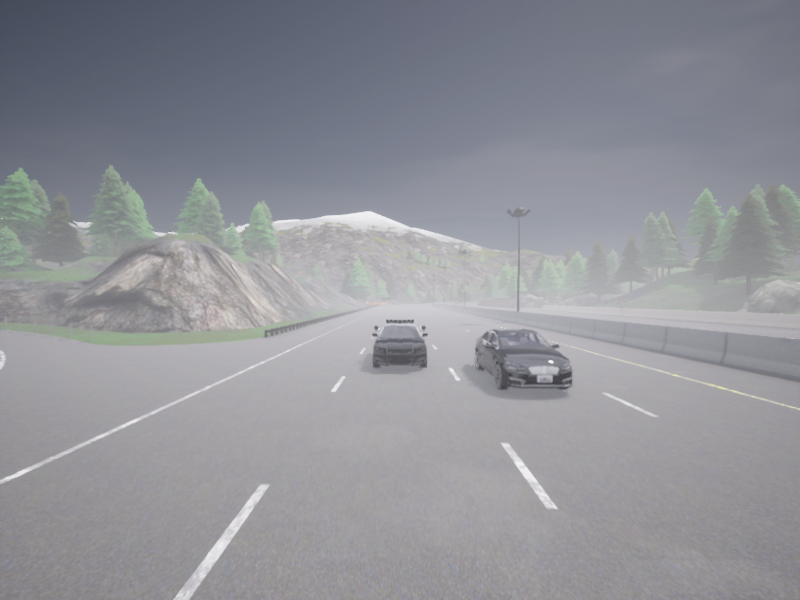vehicle: (474, 328, 572, 389), (372, 319, 427, 368), (455, 301, 459, 304), (459, 301, 463, 303)
